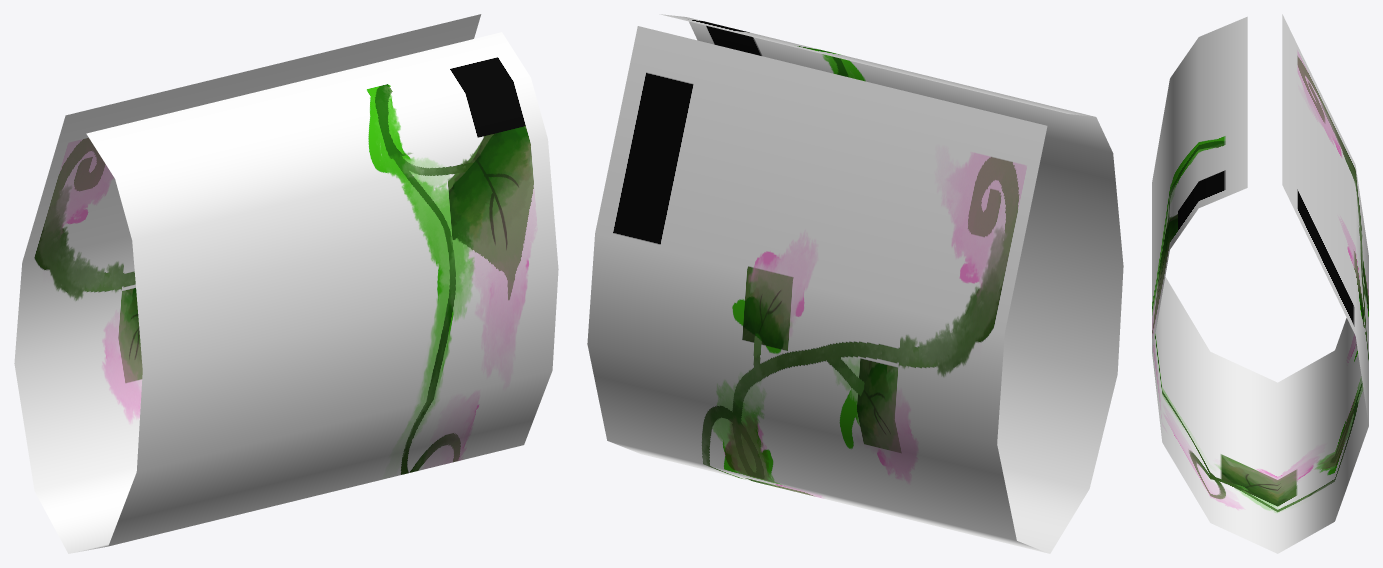
File: SmallVineAround.fbx
3 views of the same model, side by side, from view 1: azimuth 30°, elevation 25°; view 2: azimuth 150°, elevation 25°; view 3: azimuth 270°, elevation 25° (orthographic). The views are drawn at different scales.
Parts seen in each view (by area): view 1: SmallVineAround; view 2: SmallVineAround; view 3: SmallVineAround.
Boxes of the visible parts, x1=… form: SmallVineAround: x1=14, y1=14, x2=558, y2=553; SmallVineAround: x1=587, y1=14, x2=1123, y2=553; SmallVineAround: x1=1152, y1=14, x2=1368, y2=553.
Bounding box in the file's own units: 0.2439 × 0.2446 × 0.1303.
Materials: 1 (1 with a texture image).
